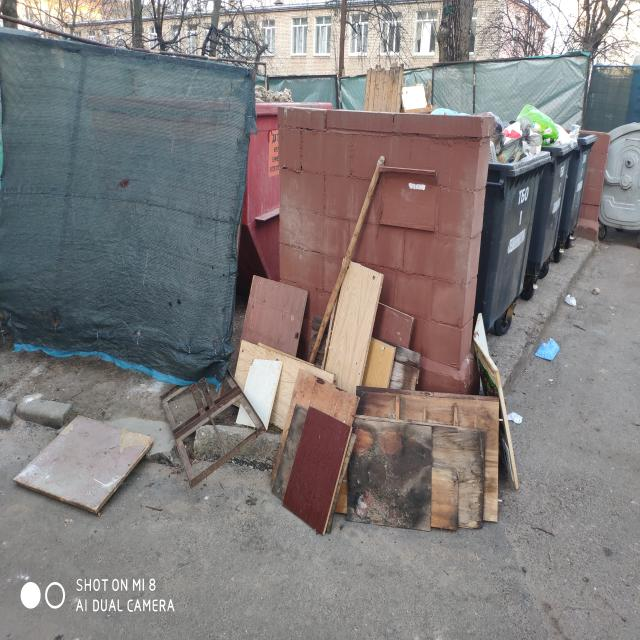entulho: (343, 388, 502, 527), (11, 408, 156, 515), (157, 368, 266, 487), (286, 408, 353, 538), (236, 272, 308, 391), (470, 312, 518, 489), (322, 268, 386, 389), (232, 358, 284, 428), (358, 339, 424, 387), (368, 300, 414, 352)
lixo domiciliar: (516, 104, 560, 144), (500, 135, 529, 162), (535, 338, 559, 361), (503, 117, 522, 142), (523, 132, 541, 157), (555, 124, 571, 145), (568, 122, 583, 143), (489, 138, 498, 164), (495, 116, 505, 134), (564, 295, 578, 304), (592, 287, 602, 294)
